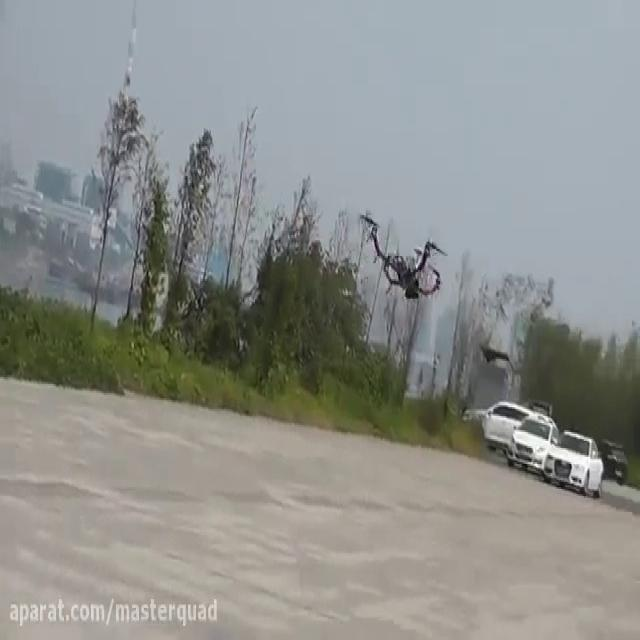drone: (355, 210, 450, 300)
